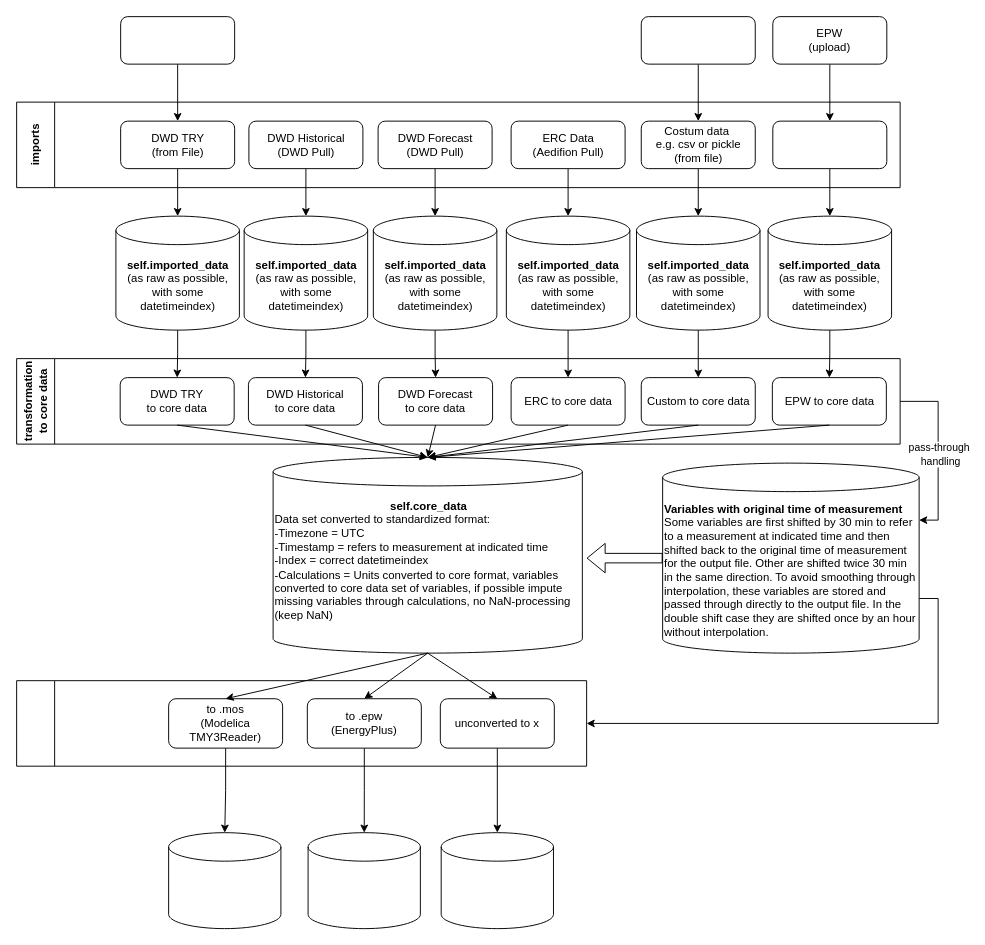
The diagram is 985 pixels wide and 945 high, and some of its shapes have lost their labels. The centre of each missing label's shape, as x and y in pixels:
core data to output file: (x=301, y=723)
Costum data e.g. csv or pickle (Upload): (x=697, y=40)
Data in core_format to: .csv .json .pickle: (x=496, y=880)
DWD TRY (upload): (x=177, y=40)
EPW (from file): (x=829, y=144)
EPW file Converted to EPW EnergyPlus format: (x=363, y=880)
TMY3Reader file for Modelica simulations: (x=224, y=880)
